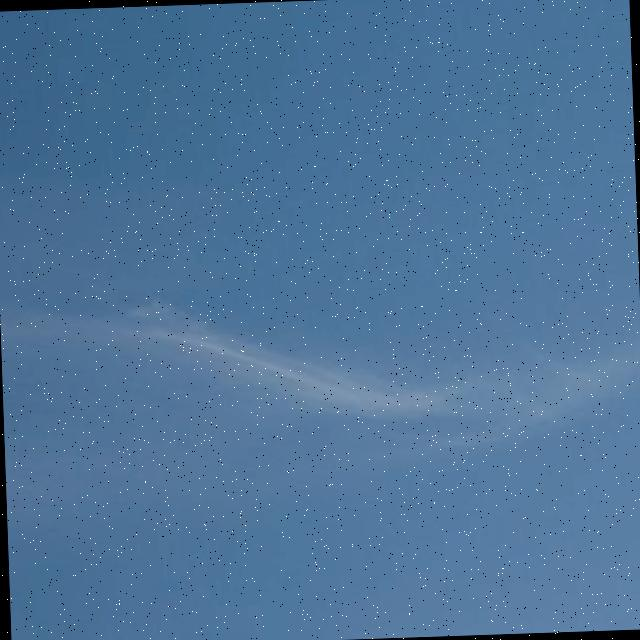Ci: (6, 268, 640, 494)
